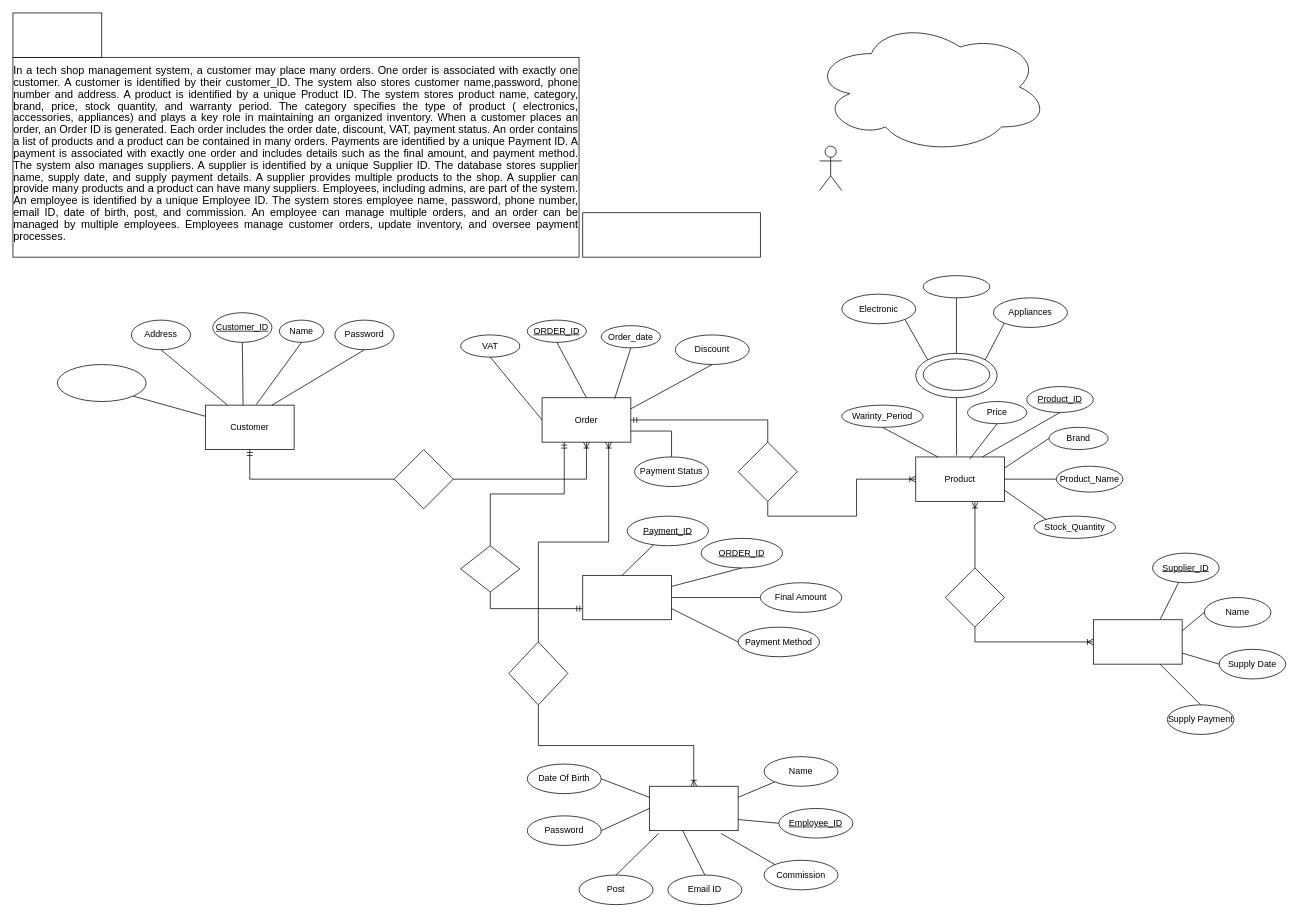
This 1299x918 diagram has some shape labels left out. The centre of each missing label's shape, as x and y in pixels:
Accessories: point (956, 286)
Actor: point (830, 168)
Category: point (956, 374)
Completes: point (490, 568)
Employee: point (693, 808)
ER DIAGRAM MANAGEMENT SYSTEM: point (671, 234)
Manage: point (538, 673)
Payment: point (627, 597)
Phone_Number: point (101, 383)
Places: point (423, 479)
Provides: point (975, 597)
Purchassed: point (767, 471)
QUESTION: point (57, 34)
Supplier: point (1137, 641)
